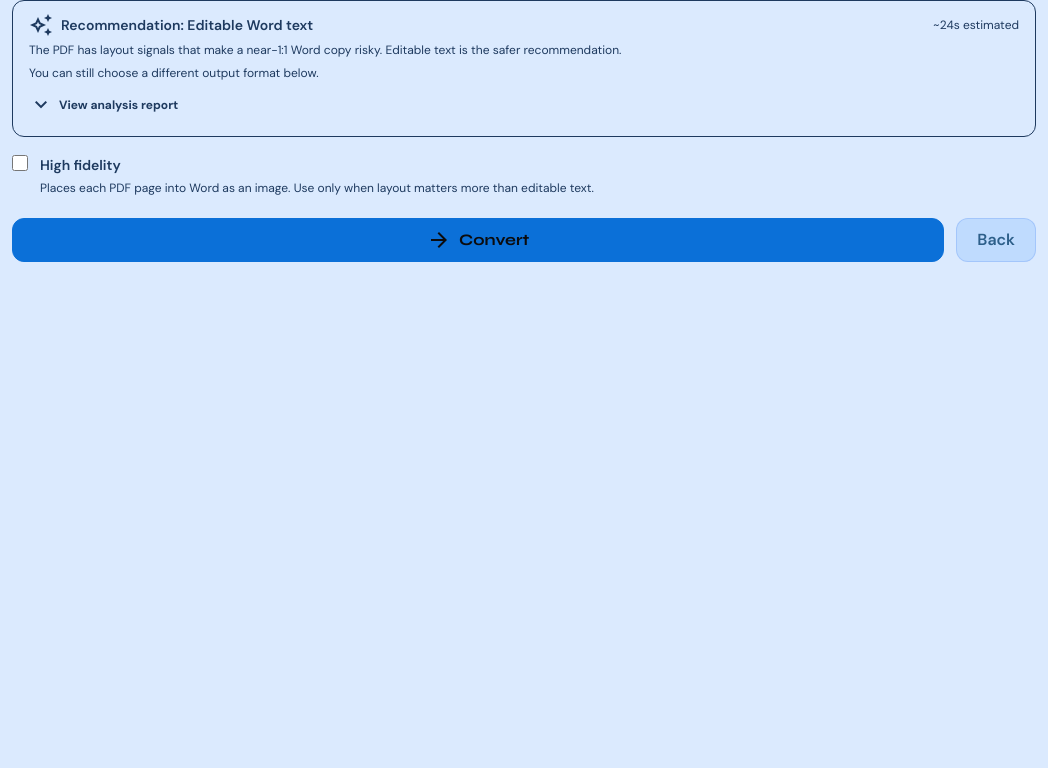
it: ParamsPanel › keeps the PDF analysis report closed until requested
The image size is (1048, 768).
Expected: the text "Editable Word text" is shown, [187,16,313,34]
Expected: the text "Complexity" is not shown
What coordinates should you click on to do the following:
click the button "View analysis report"
I would click on:
 (104, 104)
Its box is [29,92,178,116].
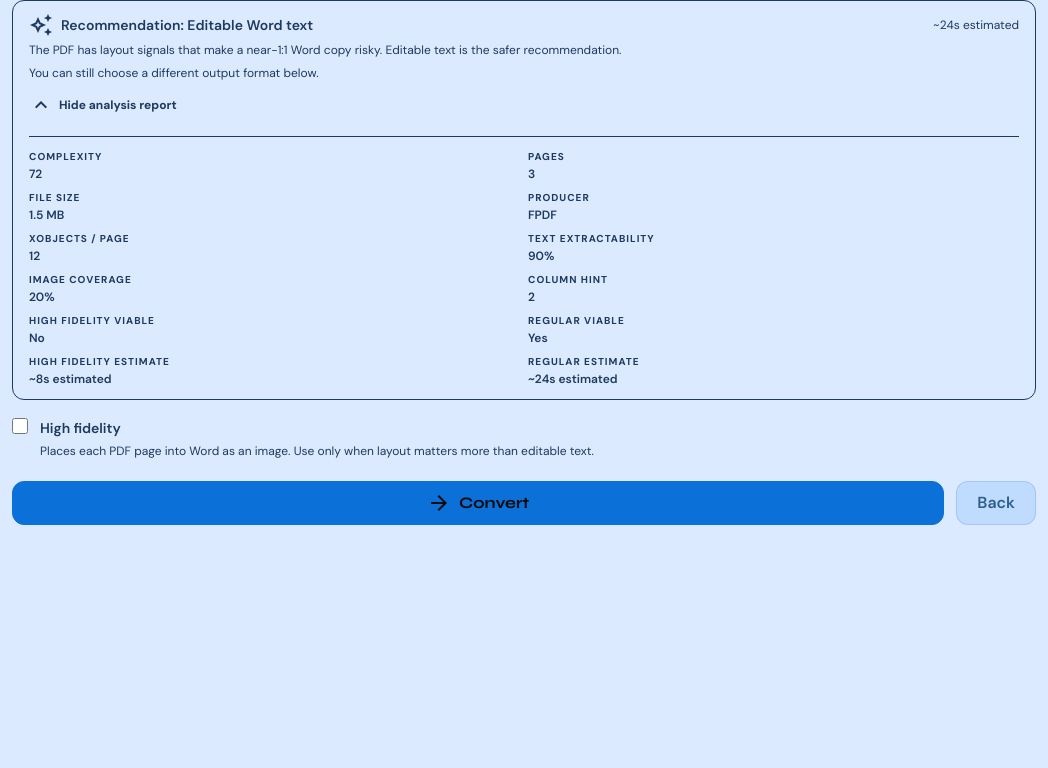
Expected: the text "Complexity" is shown, [29,150,102,162]
Expected: the text "72" is shown, [29,166,42,182]
Expected: the text "Producer" is shown, [528,190,590,204]
